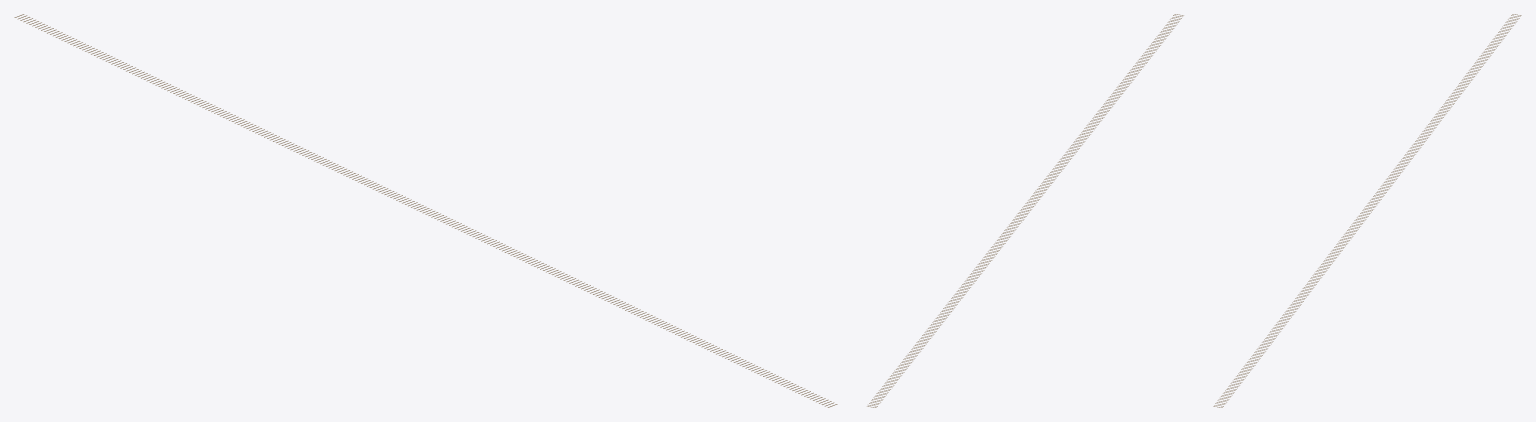
File: c_1629_17824_rail_sleeper.glb
3 views of the same model, side by side, from view 1: azimuth 30°, elevation 25°; view 2: azimuth 150°, elevation 25°; view 3: azimuth 330°, elevation 25° (orthographic). The views are drawn at different scales.
Visible parts, largest first — view 1: geometry_0; view 2: geometry_0; view 3: geometry_0.
Boxes of the visible parts, x1,y1,x2,y2 form: geometry_0: [14, 14, 837, 407]; geometry_0: [867, 14, 1183, 407]; geometry_0: [1213, 14, 1521, 407].
Size of the model in its own units: 48.11 by 1.43 by 217.
